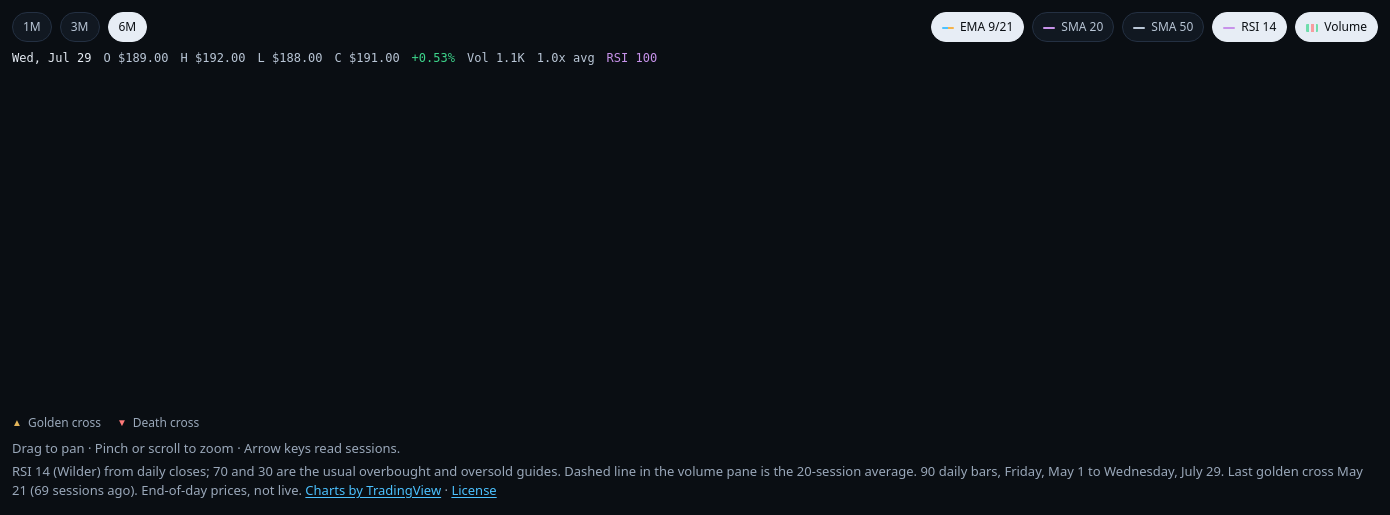
Test: puts volume in its own pane with the 20-session average, and the Volume chip hides both
Expected: the text "1.0x avg" is shown, [537,50,595,68]
Expected: the text "20-session average" is shown, [564,462,920,480]
Click the button "Volume" at (1337, 27), box [1295,12,1378,42]
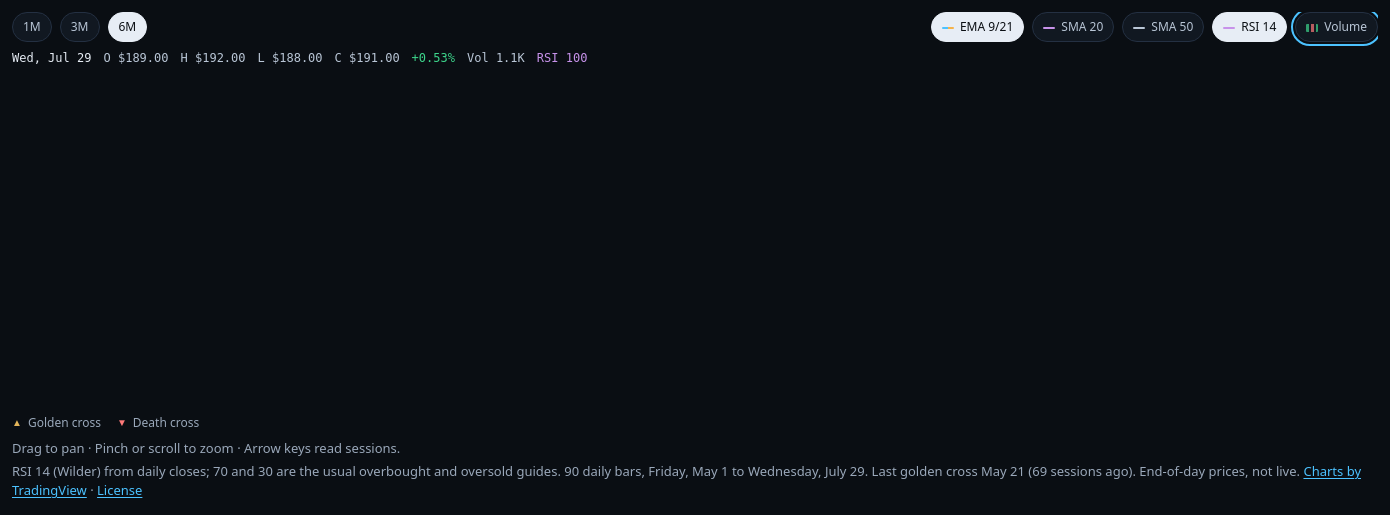
Expected: the text "x avg" is gone
